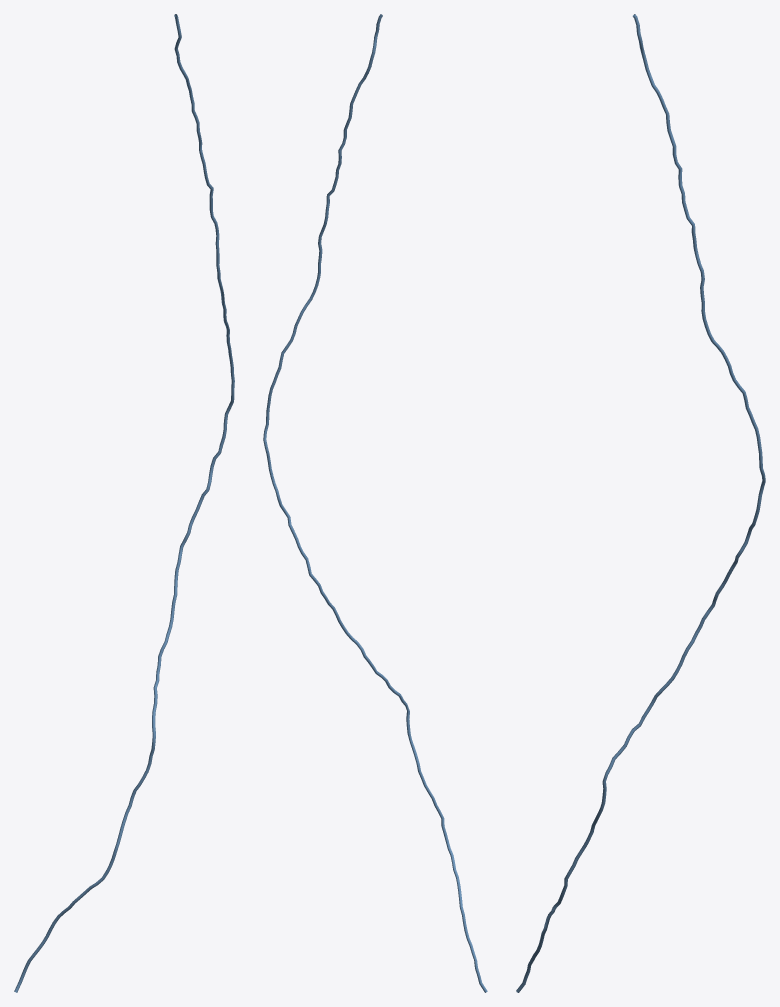
File: sweep86.fbx
3 views of the same model, side by side, from view 1: azimuth 30°, elevation 25°; view 2: azimuth 150°, elevation 25°; view 3: azimuth 330°, elevation 25° (orthographic). The views are drawn at different scales.
Visible parts, largest first — view 1: sweep86; view 2: sweep86; view 3: sweep86.
Part boxes in pixels (x1,y1,x2,y2): sweep86: (14,14,234,992); sweep86: (263,14,487,992); sweep86: (516,14,765,992).
Size of the model in its own units: 1.53 by 6.27 by 0.4687.
